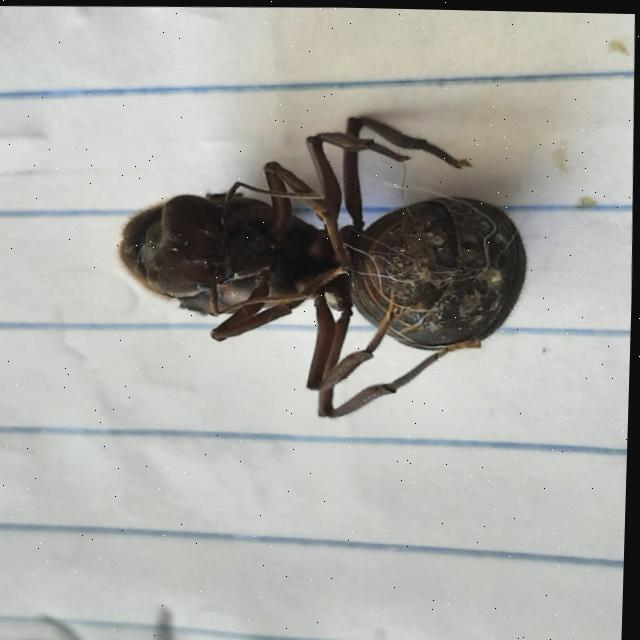Dead-Female-Dealate: (110, 106, 535, 424)
